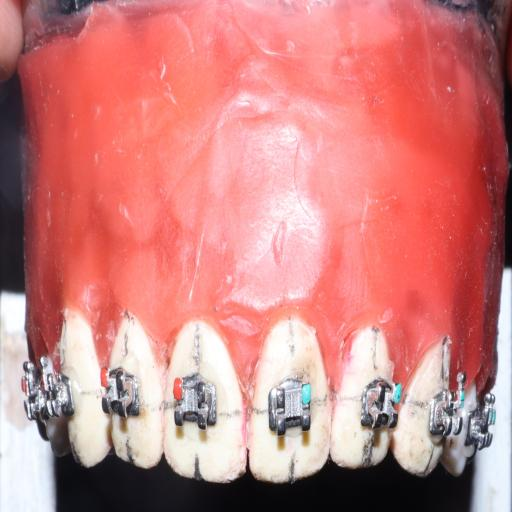incorrect_brace: (99, 305, 164, 482), (266, 372, 316, 448), (166, 370, 219, 438), (98, 359, 144, 429)
